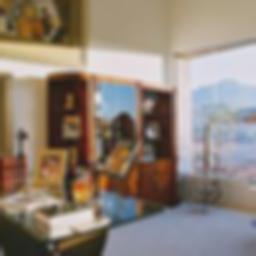Armario: (75, 72, 173, 213)
